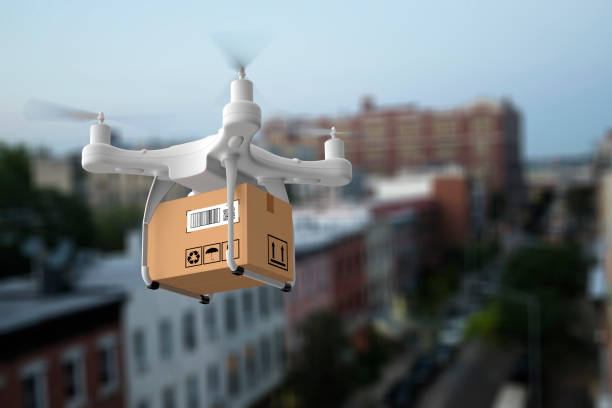Drone: (22, 23, 374, 209)
